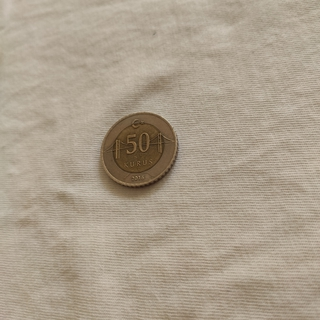50KURUS: (99, 110, 179, 190)
